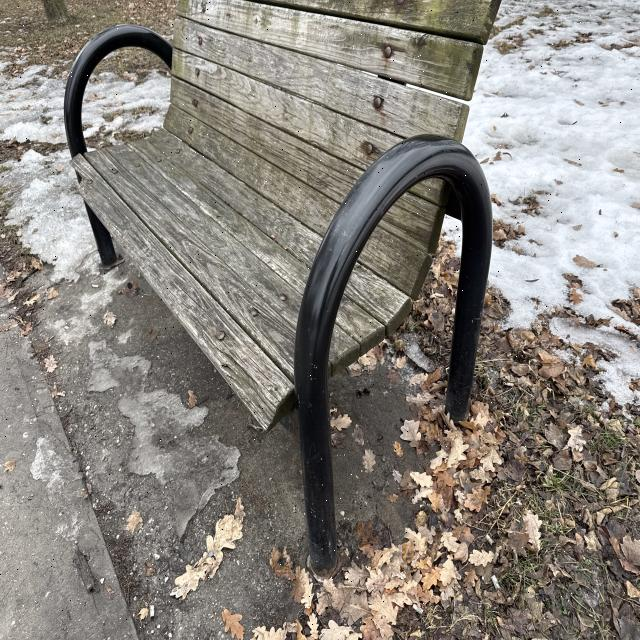Bench: (40, 14, 492, 353), (229, 0, 508, 523)
